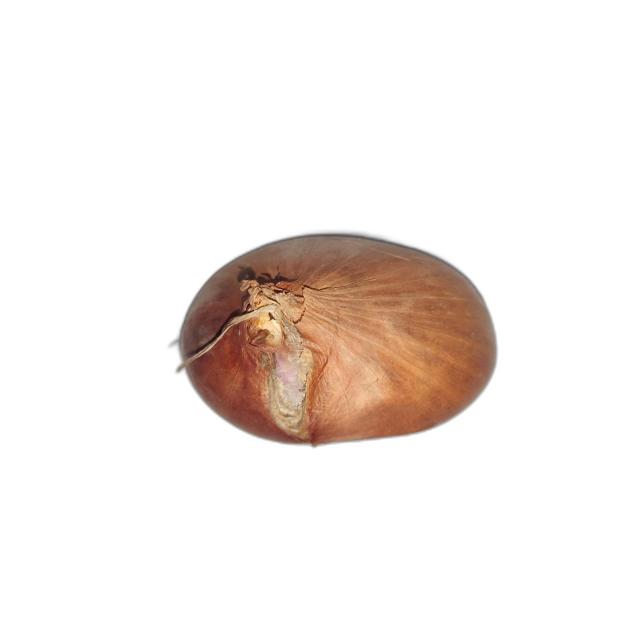onion: (176, 233, 496, 446)
